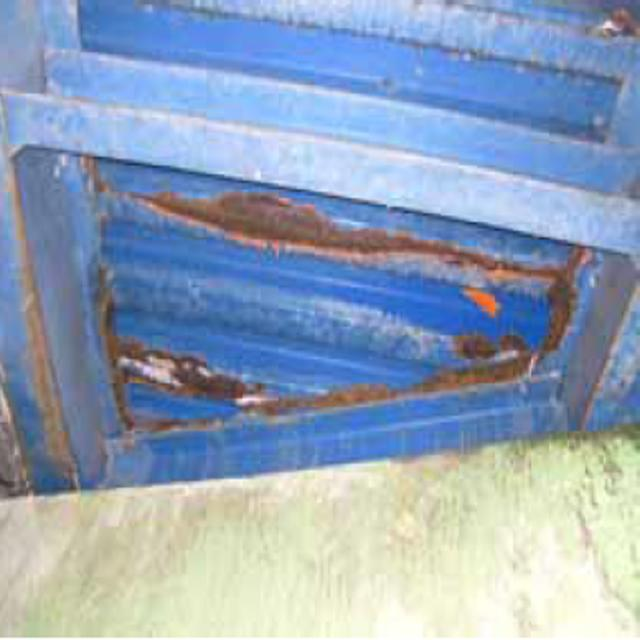corrosion: (7, 128, 593, 466)
